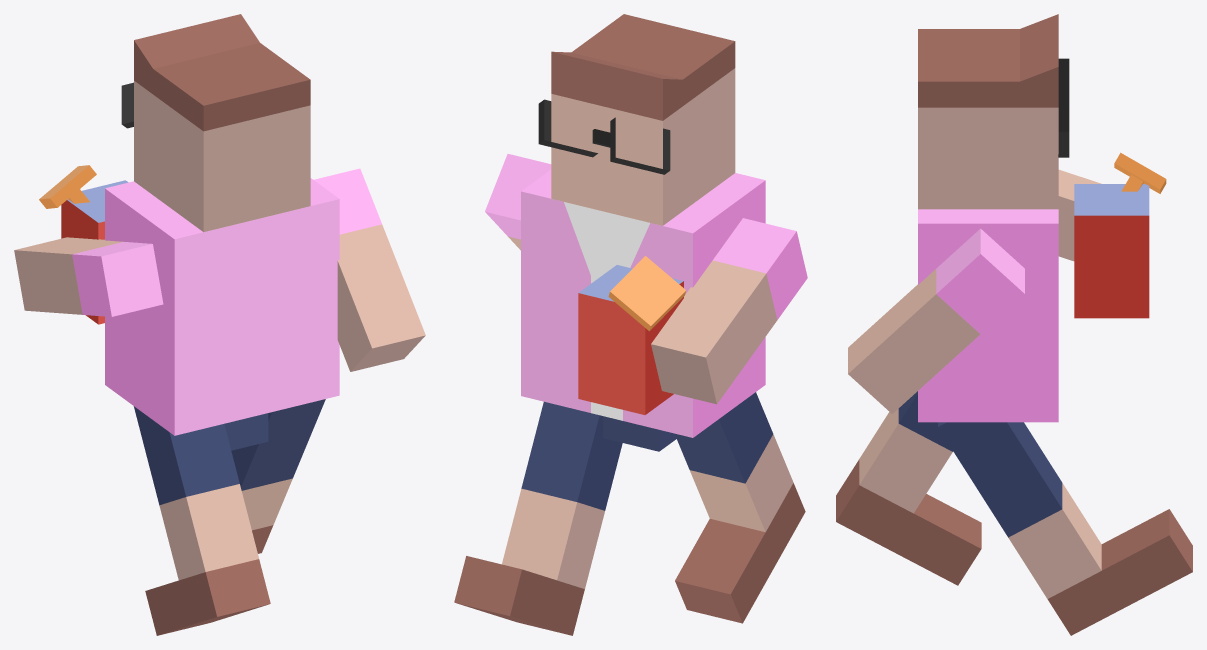
File: office-vacation-jump-2.glb
3 views of the same model, side by side, from view 1: azimuth 30°, elevation 25°; view 2: azimuth 150°, elevation 25°; view 3: azimuth 270°, elevation 25° (orthographic). The views are drawn at different scales.
Parts seen in each view (by area): view 1: UNIT.118, UNIT.117, UNIT.115, UNIT.114, UNIT.116, UNIT.113; view 2: UNIT.118, UNIT.115, UNIT.116, UNIT.117, UNIT.114, UNIT.119, UNIT.113; view 3: UNIT.118, UNIT.116, UNIT.114, UNIT.117, UNIT.115, UNIT.119.
Boxes of the visible parts, x1=… form: UNIT.118: x1=105, y1=14, x2=339, y2=435; UNIT.117: x1=133, y1=406, x2=270, y2=635; UNIT.115: x1=14, y1=165, x2=163, y2=324; UNIT.114: x1=313, y1=168, x2=425, y2=371; UNIT.116: x1=231, y1=399, x2=325, y2=553; UNIT.113: x1=224, y1=413, x2=268, y2=450; UNIT.118: x1=521, y1=14, x2=765, y2=437; UNIT.115: x1=578, y1=218, x2=807, y2=414; UNIT.116: x1=454, y1=401, x2=622, y2=635; UNIT.117: x1=674, y1=392, x2=805, y2=623; UNIT.114: x1=485, y1=154, x2=551, y2=250; UNIT.119: x1=538, y1=99, x2=670, y2=174; UNIT.113: x1=603, y1=416, x2=676, y2=451; UNIT.118: x1=918, y1=14, x2=1058, y2=422; UNIT.116: x1=938, y1=422, x2=1192, y2=635; UNIT.114: x1=848, y1=228, x2=1024, y2=413; UNIT.117: x1=836, y1=391, x2=981, y2=585; UNIT.115: x1=1058, y1=152, x2=1166, y2=318; UNIT.119: x1=1058, y1=58, x2=1069, y2=157.
Size of the model in its own units: 0.7001 by 1.38 by 0.7982.
3 materials, 3 textured.
